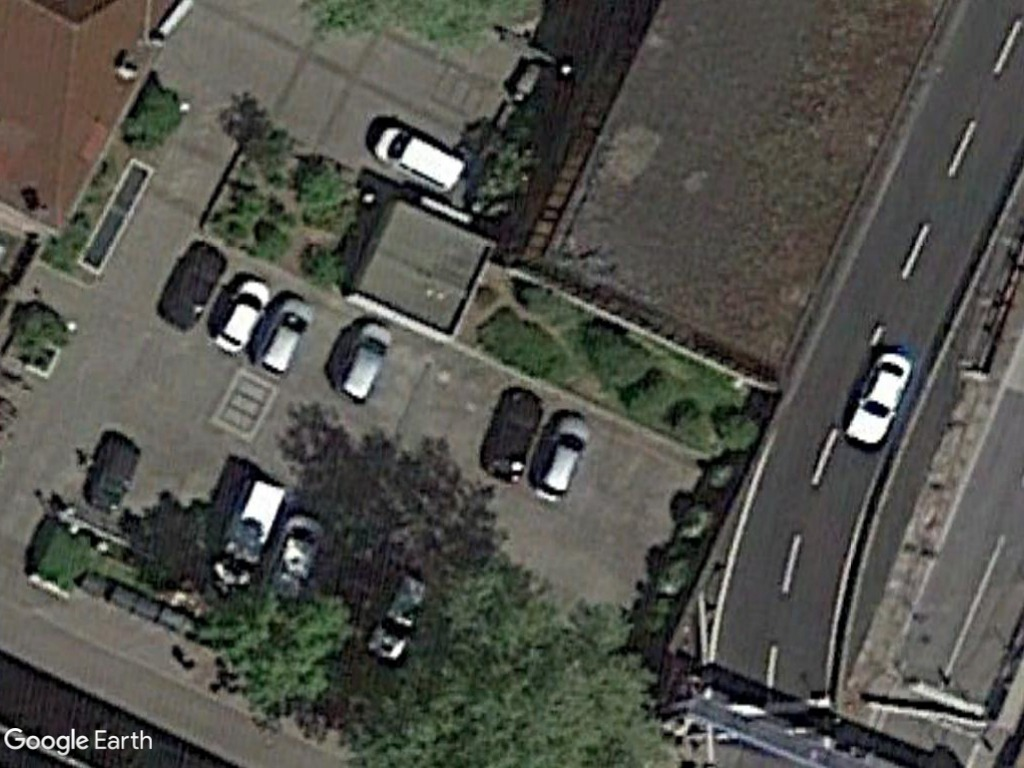car: (839, 349, 915, 452), (523, 414, 594, 509), (250, 298, 318, 380), (209, 279, 279, 358), (333, 318, 394, 404)
van: (210, 477, 287, 591), (372, 123, 469, 198)
